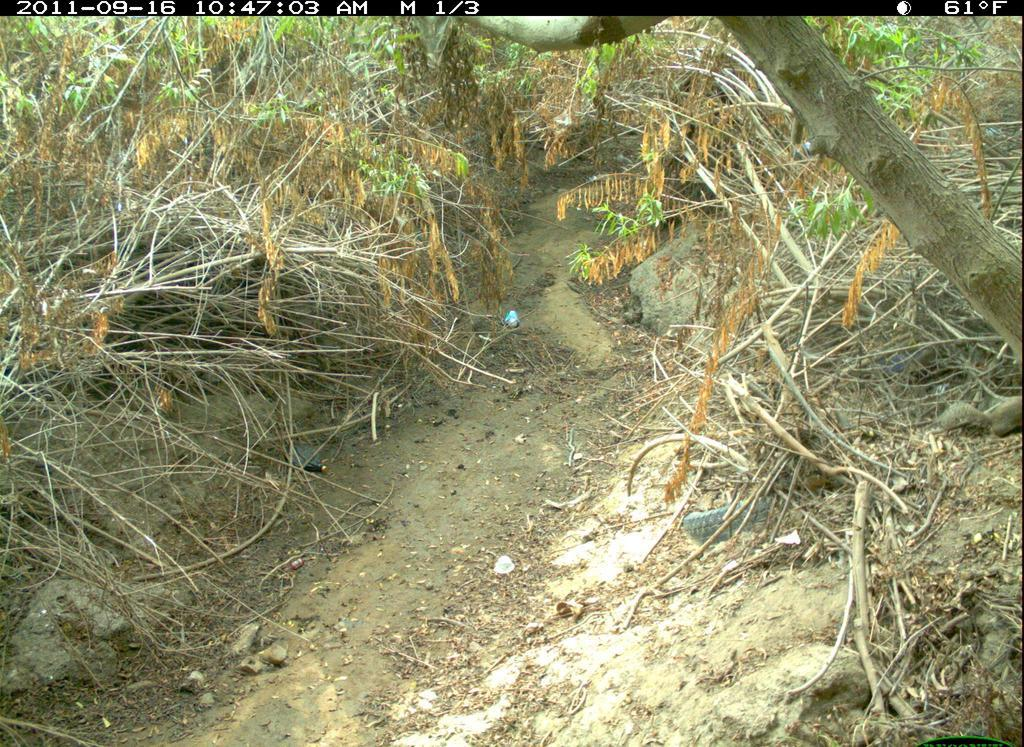squirrel: (930, 390, 1024, 446)
